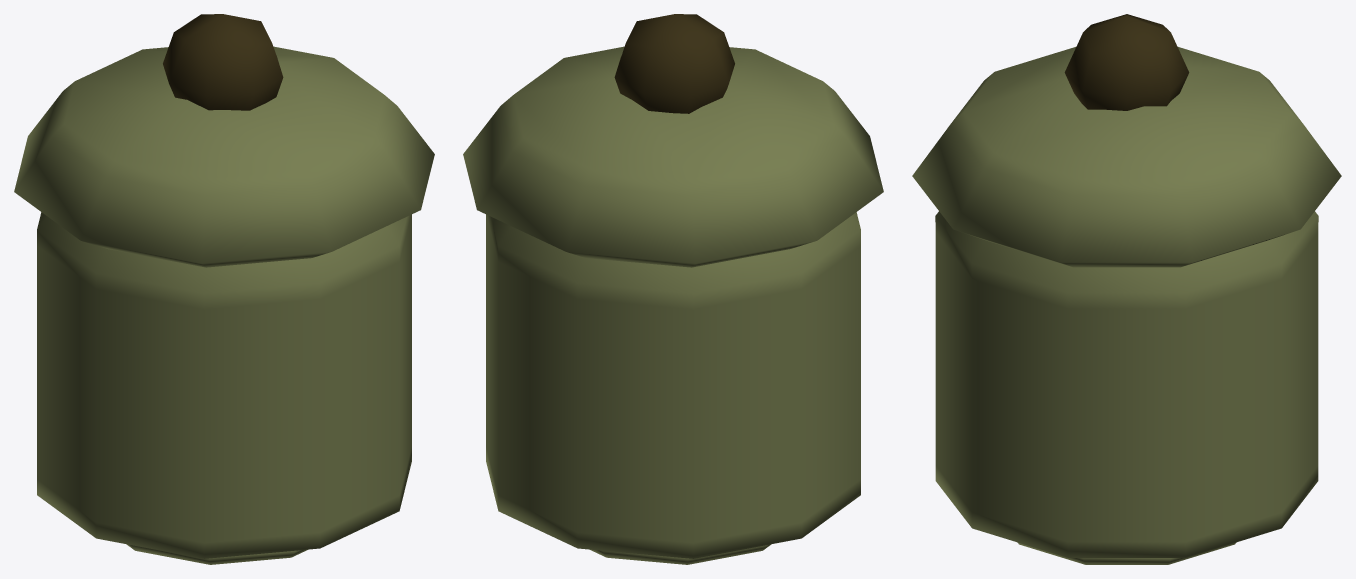
File: Bottle001.fbx
The picture shows the model from 3 angles, left to right: view 1: azimuth 30°, elevation 25°; view 2: azimuth 150°, elevation 25°; view 3: azimuth 270°, elevation 25°; orthographic projection.
Visible parts, largest first — view 1: Bottle.001; view 2: Bottle.001; view 3: Bottle.001.
Boxes of the visible parts, <box> form: Bottle.001: <box>14,14,434,564</box>; Bottle.001: <box>463,14,883,564</box>; Bottle.001: <box>912,14,1341,564</box>.
Bounding box in the file's own units: 0.547 × 0.7304 × 0.5751.
